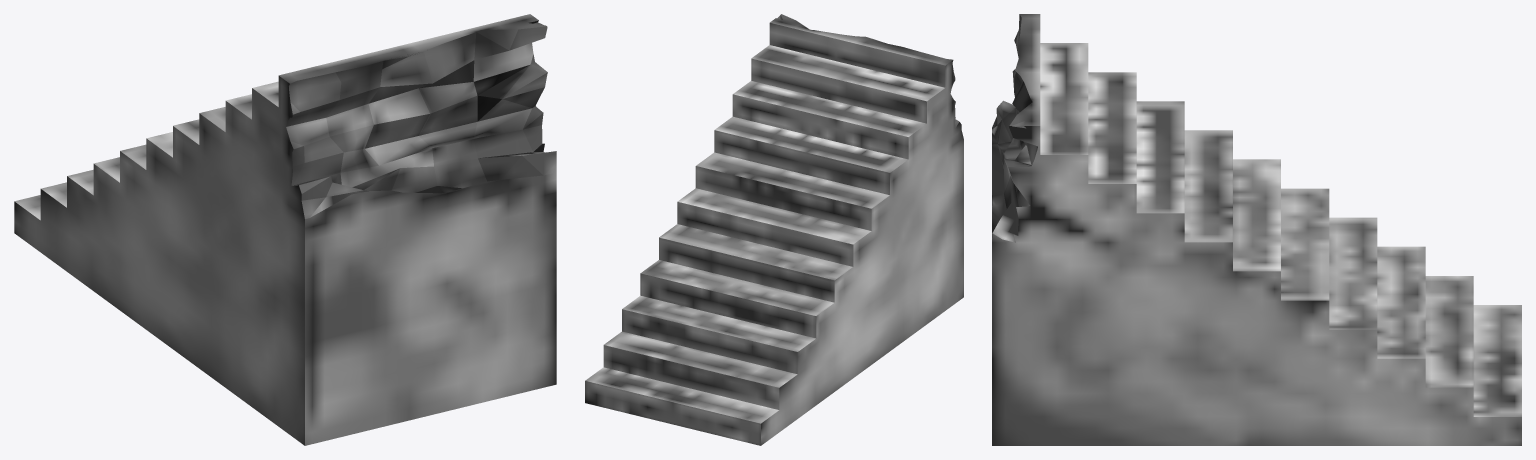
The model's file is kirik_merdiven1.fbx.
3 views of the same model, side by side, from view 1: azimuth 30°, elevation 25°; view 2: azimuth 150°, elevation 25°; view 3: azimuth 270°, elevation 25° (orthographic). The views are drawn at different scales.
Visible parts, largest first — view 1: Stairs_0_35___1_.002; view 2: Stairs_0_35___1_.002; view 3: Stairs_0_35___1_.002.
Part boxes in pixels (x1,y1,x2,y2): Stairs_0_35___1_.002: (14,14,556,445); Stairs_0_35___1_.002: (585,14,963,445); Stairs_0_35___1_.002: (992,14,1521,445).
Bounding box in the file's own units: 3 × 4 × 6.
Materials: 1 (1 with a texture image).
